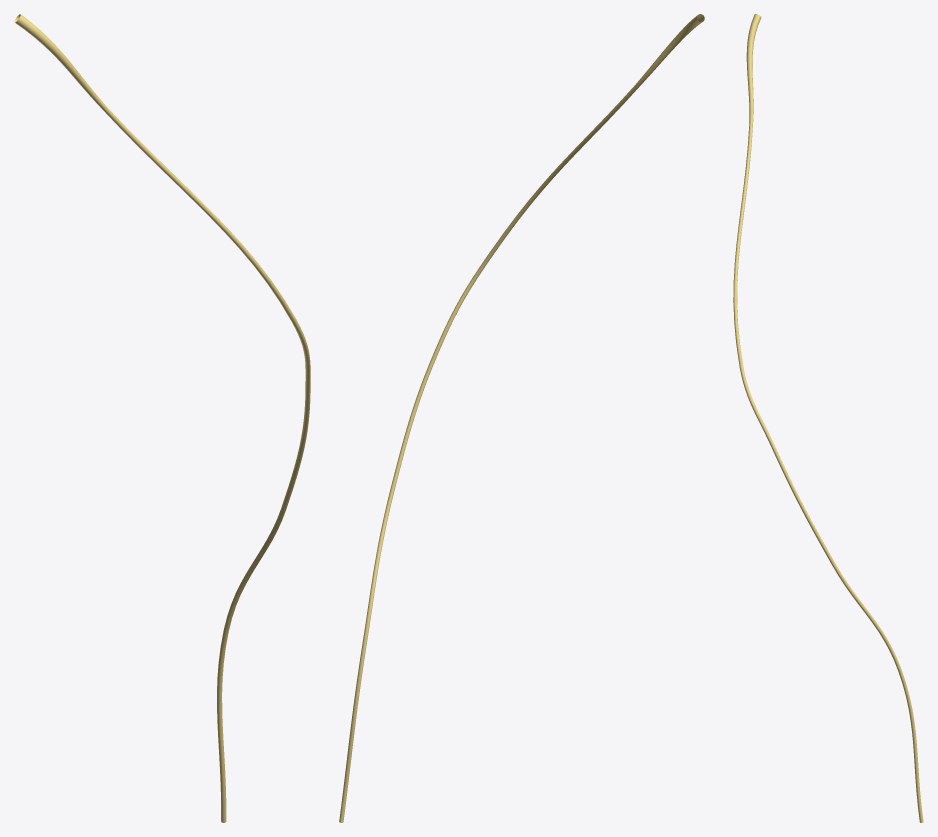
3 renders of one model, left to right at view 1: azimuth 30°, elevation 25°; view 2: azimuth 150°, elevation 25°; view 3: azimuth 270°, elevation 25°, orthographic. The views are drawn at different scales.
Parts seen in each view (by area): view 1: ZA_6b6d20b632ff2a34; view 2: ZA_6b6d20b632ff2a34; view 3: ZA_6b6d20b632ff2a34.
Part boxes in pixels (box(x1,y1,x2,y2)): ZA_6b6d20b632ff2a34: box(14, 14, 310, 822); ZA_6b6d20b632ff2a34: box(339, 14, 704, 822); ZA_6b6d20b632ff2a34: box(733, 14, 923, 822).
Size of the model in its own units: 0.0715 by 0.2033 by 0.0503.
